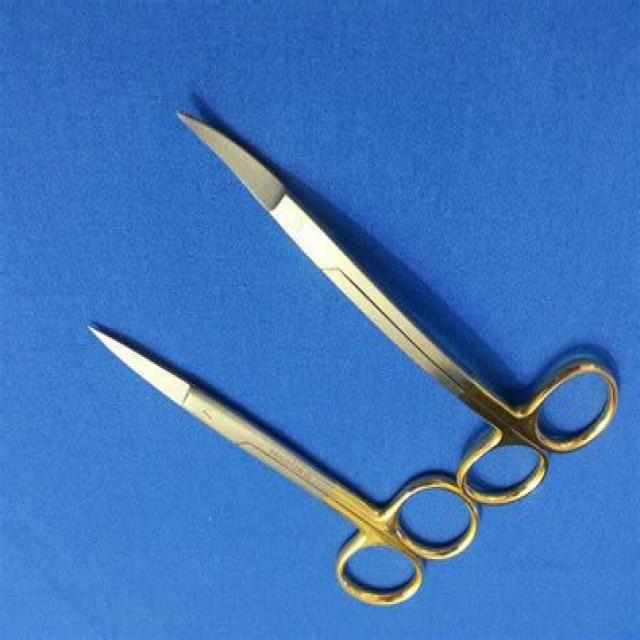Iris: (172, 104, 622, 507), (83, 317, 484, 611)
